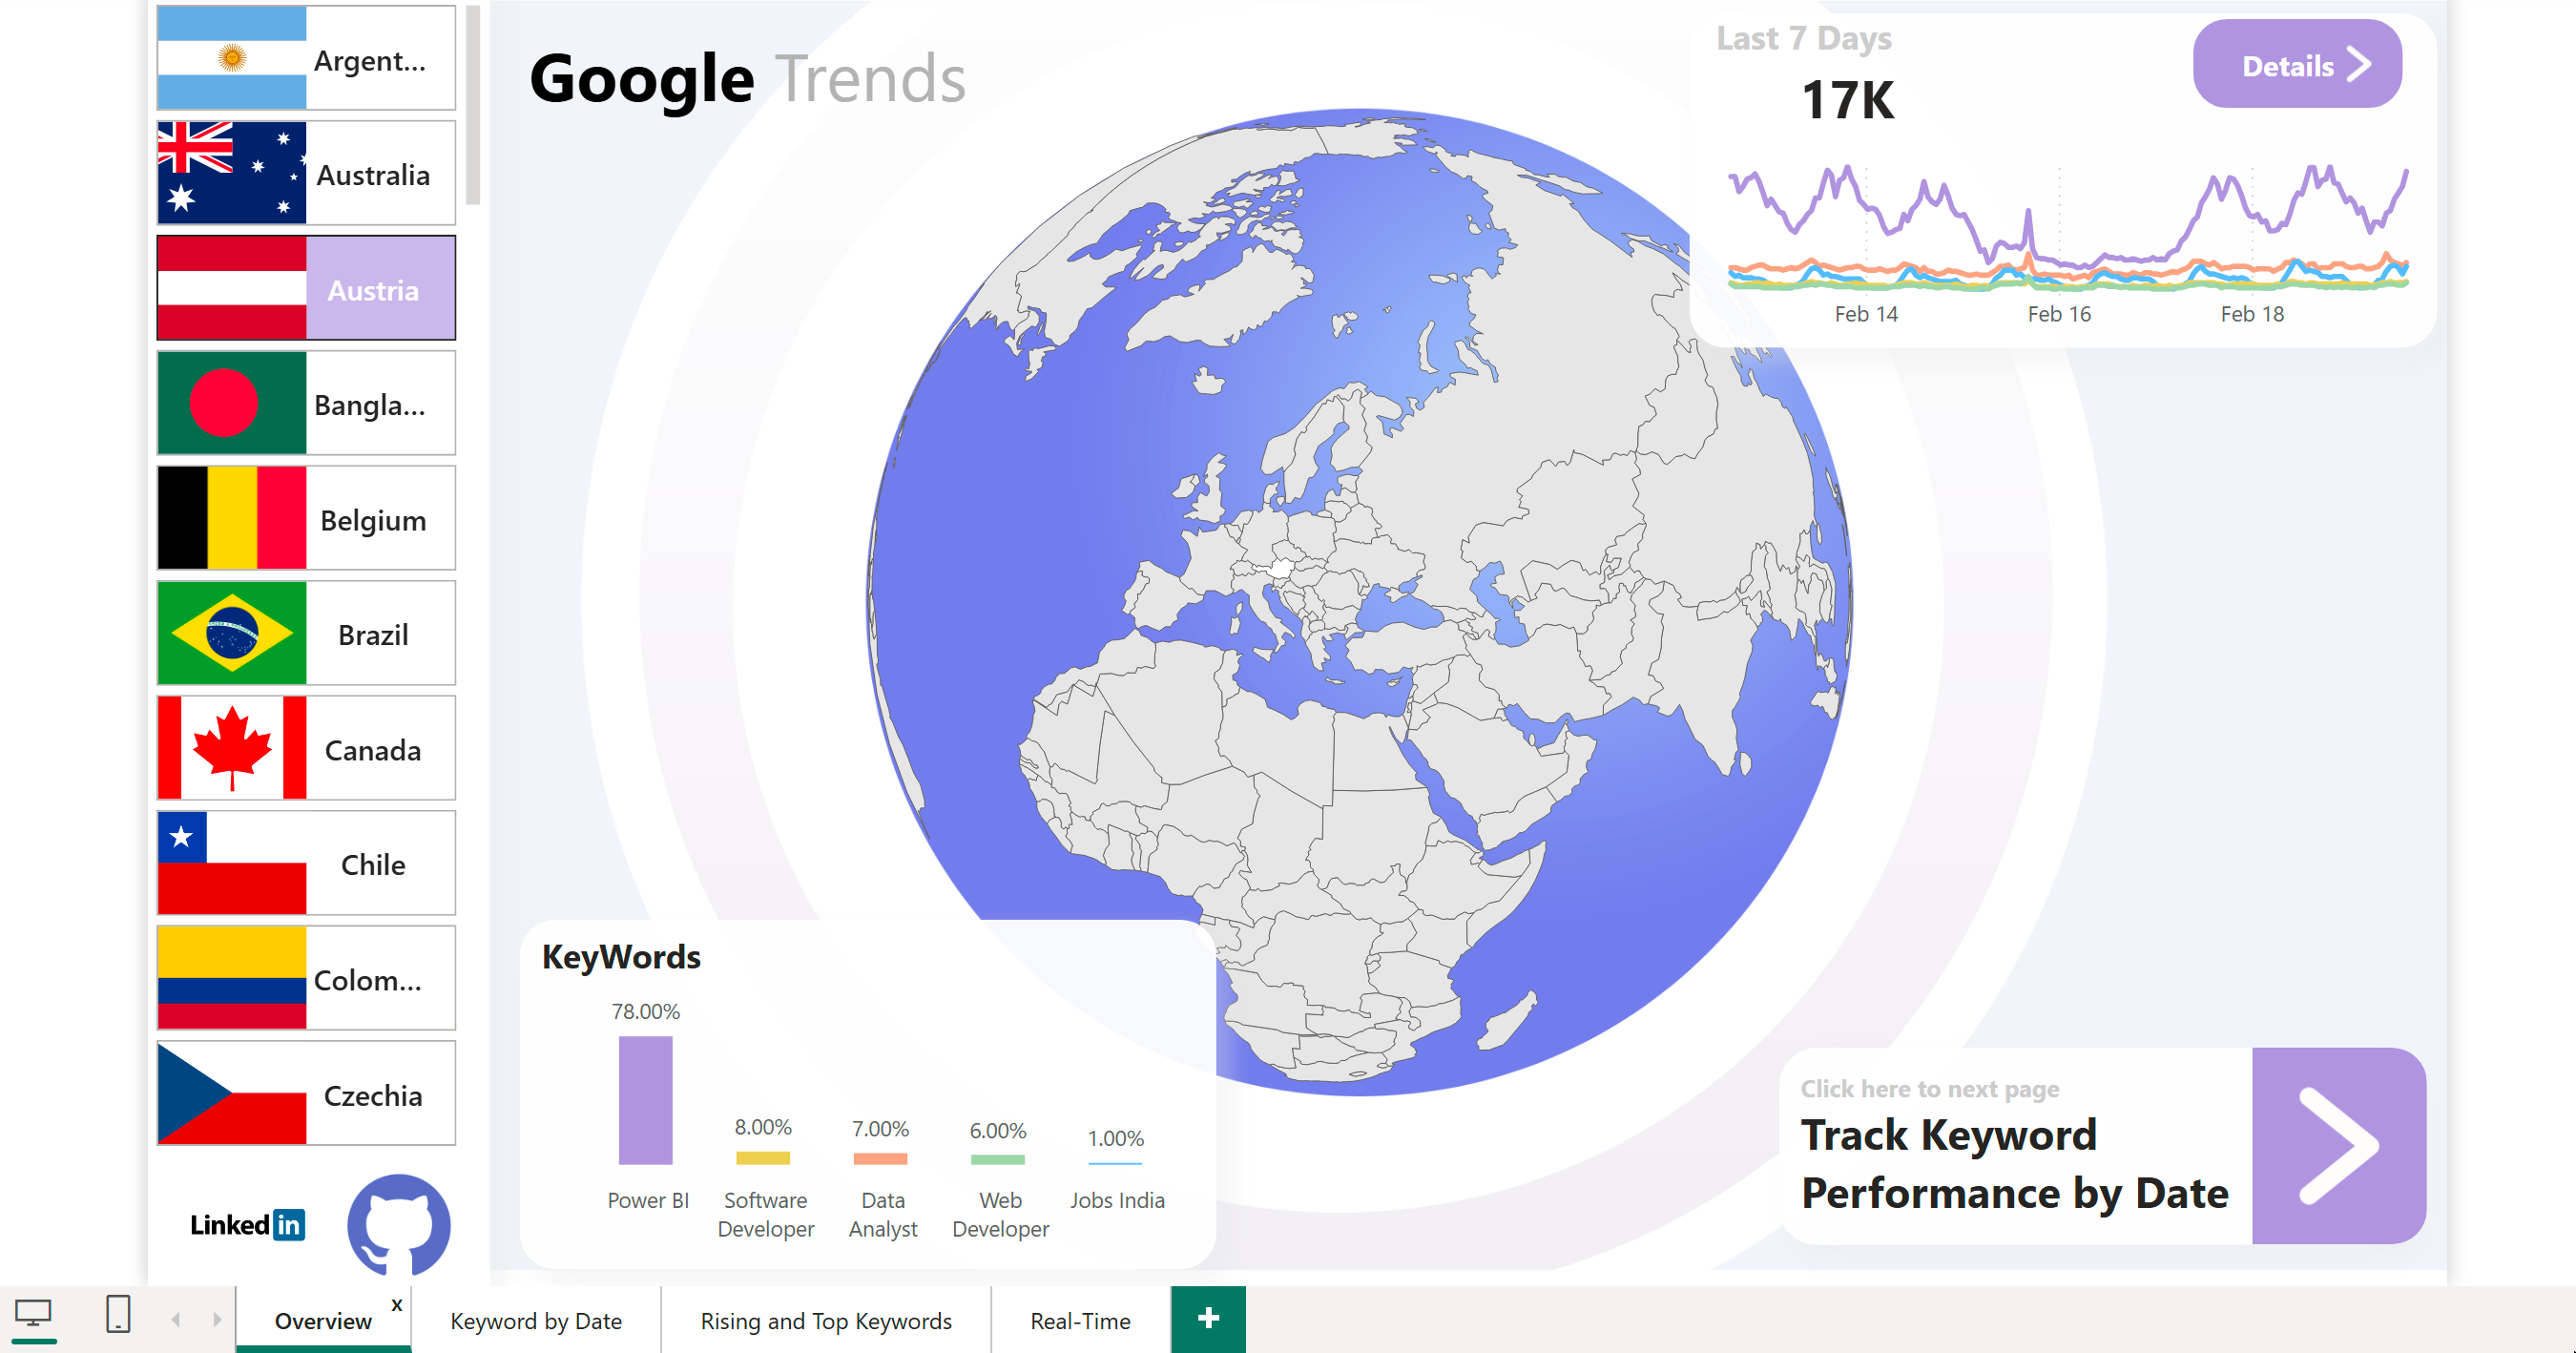

What the dashboard file says about the page in this screenshot:
{"tool":"powerbi","page":{"name":"Overview","canvas":[1280,720],"ordinal":0},"visuals":[{"type":"actionButton","box":[5.9,651.9,70.2,59.5],"z":0},{"type":"shapeMap","fields":{"Category":["Country_API.Country"]},"box":[365.2,0,618.5,676.3],"z":2000},{"type":"shape","box":[0,1.2,190.6,719.3],"z":3000},{"type":"shape","box":[908.7,587.7,348,109.4],"z":4000},{"type":"clusteredColumnChart","title":"KeyWords","fields":{"Y":["Country_Measures.Country_Value"],"Category":["Country_API.KeyWords"]},"box":[206.6,516.4,387.3,194.3],"z":5000},{"type":"shape","box":[858.1,11.4,416.2,185.9],"z":6000},{"type":"lineChart","fields":{"Category":["Past_7_Days_Searches.Date"],"Series":["Past_7_Days_Searches.Keywords"],"Y":["Past_7_Days_Searches.Last_7_Days_Value"]},"box":[858.1,82.9,421.9,114.4],"z":7000},{"type":"actionButton","box":[1137,14.3,118.7,51.5],"z":8000},{"type":"card","title":"Last 7 Days","fields":{"Values":["Past_7_Days_Searches.Last_7_Days_Value"]},"box":[868.1,11.4,155.9,71.5],"z":9000},{"type":"textbox","box":[908,588.3,274,108.3],"z":10000},{"type":"textbox","box":[206.6,14.8,271.7,63.9],"z":11000},{"type":"actionButton","box":[1171.8,587.7,97.1,109.4],"z":12000},{"type":"image","box":[16,651.7,79.9,67.6],"z":13000},{"type":"advancedSlicerVisual","fields":{"Values":["Country_API.Country"]},"box":[0,2.5,190.6,649.2],"z":14000},{"type":"image","box":[95.9,651.7,88.5,67.6],"z":15000}]}

Visuals, with their boxes on the page's 1280x720 design canvas (x1, y1, x2, y2). These are canvas units, not pixel positions in the 2576x1353 screenshot, which may show the page scaled, cropped or inside an application window:
actionButton: <bbox>6, 652, 76, 711</bbox>
shapeMap - Country_API.Country: <bbox>365, 0, 984, 676</bbox>
shape: <bbox>0, 1, 191, 720</bbox>
shape: <bbox>909, 588, 1257, 697</bbox>
"KeyWords" clusteredColumnChart: <bbox>207, 516, 594, 711</bbox>
shape: <bbox>858, 11, 1274, 197</bbox>
lineChart - Past_7_Days_Searches.Date x Past_7_Days_Searches.Keywords: <bbox>858, 83, 1280, 197</bbox>
actionButton: <bbox>1137, 14, 1256, 66</bbox>
"Last 7 Days" card: <bbox>868, 11, 1024, 83</bbox>
textbox: <bbox>908, 588, 1182, 697</bbox>
textbox: <bbox>207, 15, 478, 79</bbox>
actionButton: <bbox>1172, 588, 1269, 697</bbox>
image: <bbox>16, 652, 96, 719</bbox>
advancedSlicerVisual - Country_API.Country: <bbox>0, 2, 191, 652</bbox>
image: <bbox>96, 652, 184, 719</bbox>
